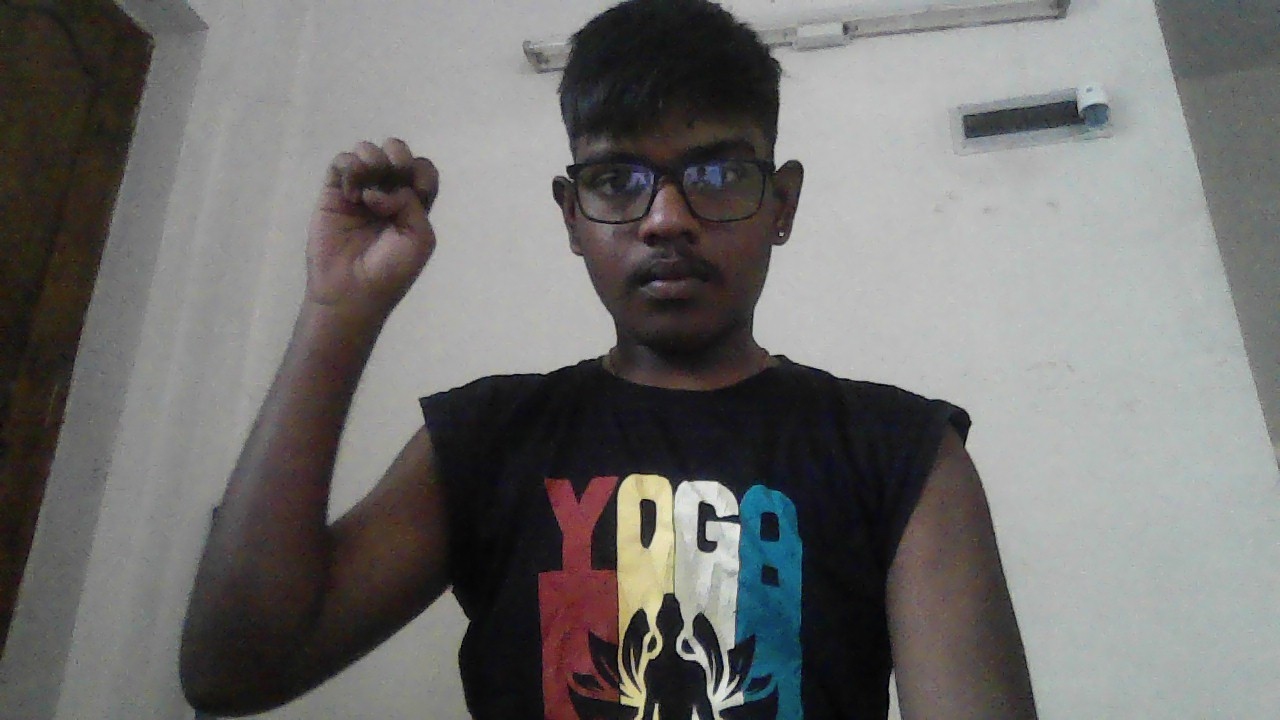E: (307, 137, 440, 312)
